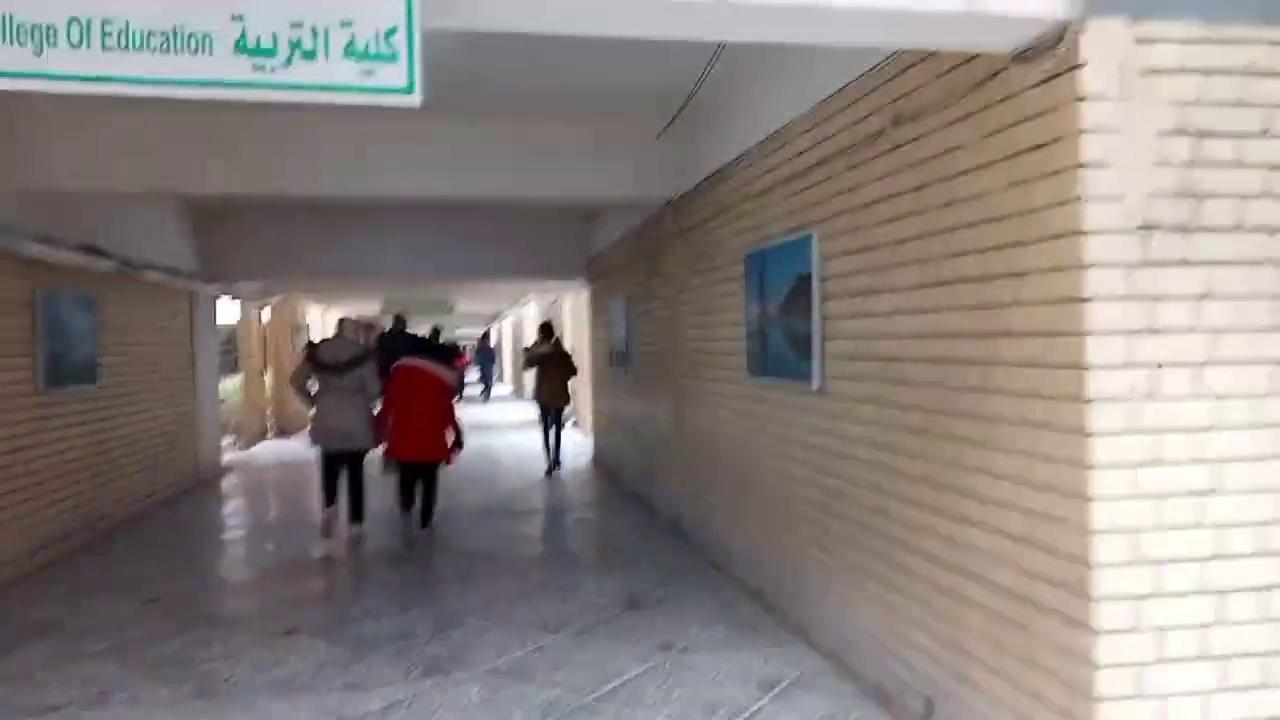person: (288, 316, 383, 537), (373, 334, 464, 531), (521, 319, 577, 477), (474, 330, 495, 401)
